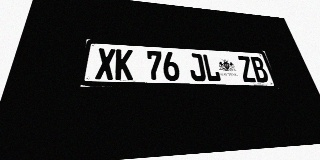6: (162, 52, 180, 81)
7: (146, 51, 164, 81)
B: (249, 56, 270, 83)
J: (187, 53, 207, 81)
K: (115, 49, 133, 80)
L: (202, 54, 222, 82)
X: (95, 48, 115, 80)
Z: (236, 56, 257, 82)
